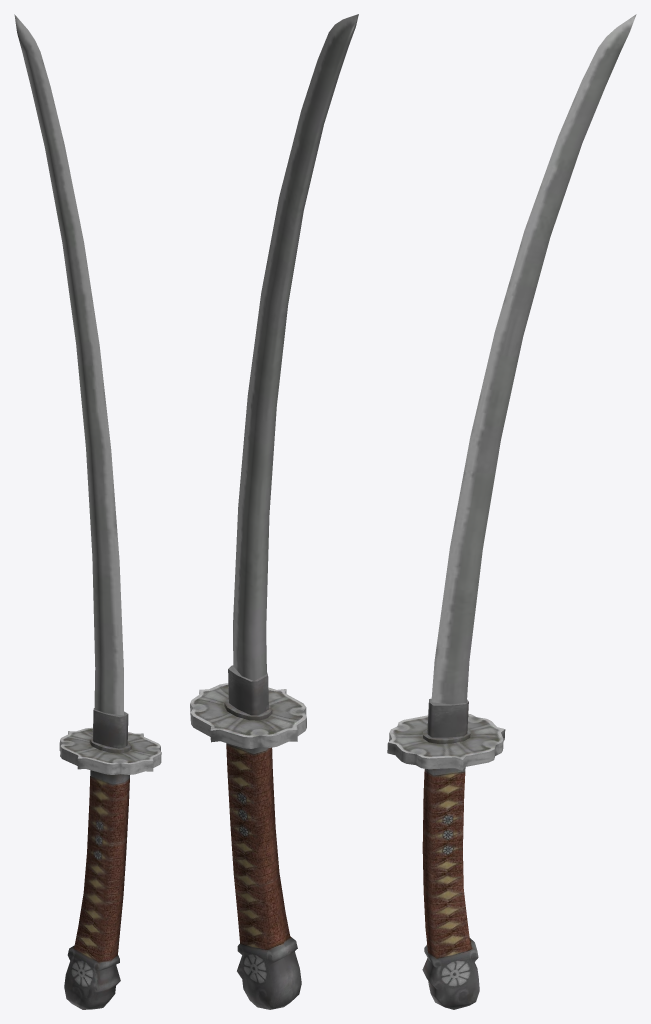
Rendered from weapon-elitedojosoldiers.glb.
The picture shows the model from 3 angles, left to right: view 1: azimuth 30°, elevation 25°; view 2: azimuth 210°, elevation 25°; view 3: azimuth 270°, elevation 25°; orthographic projection. The views are drawn at different scales.
Size of the model in its own units: 0.17 by 1.85 by 0.4196.
Materials: 1 (1 with a texture image).
